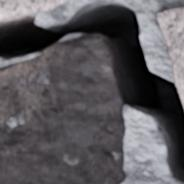brick: (0, 34, 127, 183), (157, 7, 183, 102), (0, 0, 71, 19)
crack: (0, 0, 183, 181)
